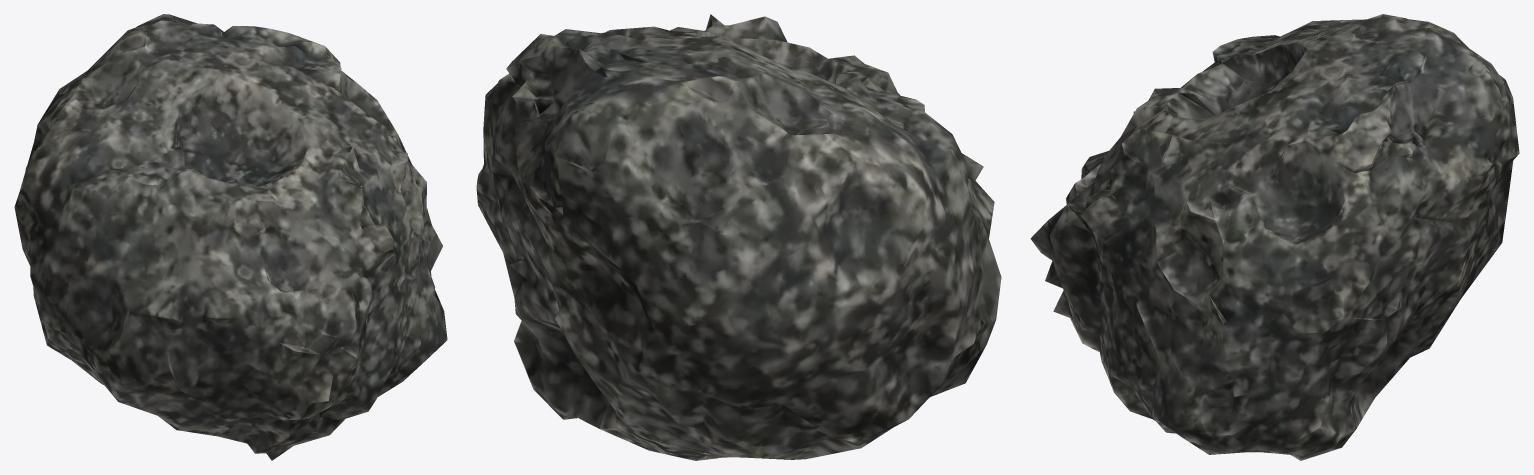
File: asteroid-1.glb
The picture shows the model from 3 angles, left to right: view 1: azimuth 30°, elevation 25°; view 2: azimuth 150°, elevation 25°; view 3: azimuth 270°, elevation 25°; orthographic projection. The views are drawn at different scales.
Visible parts, largest first — view 1: asteroid-1; view 2: asteroid-1; view 3: asteroid-1.
Boxes of the visible parts, x1,y1,x2,y2 form: asteroid-1: [14, 14, 447, 460]; asteroid-1: [476, 14, 1001, 460]; asteroid-1: [1030, 14, 1519, 460].
Bounding box in the file's own units: 1.94 × 1.79 × 2.
Materials: 1 (1 with a texture image).
